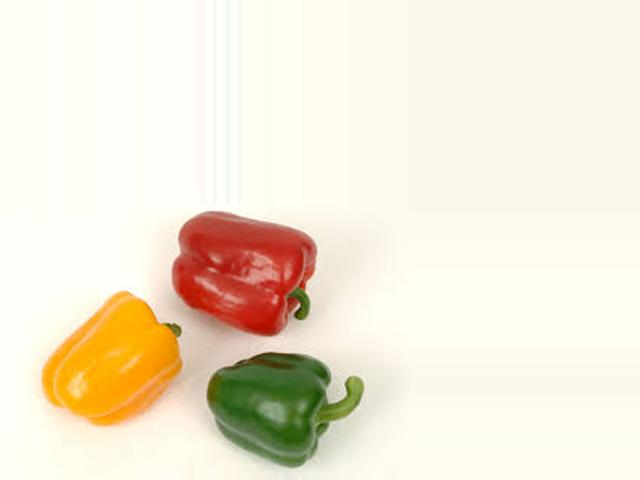bell_pepper: (204, 344, 368, 467)
